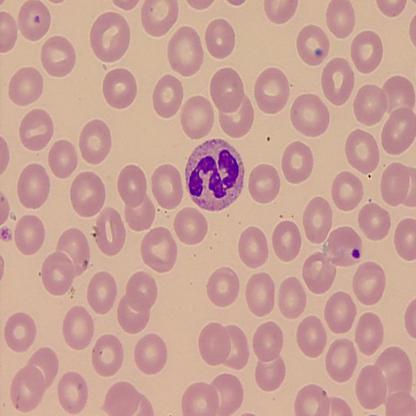Segmented neutrophil: (183, 136, 247, 215)
